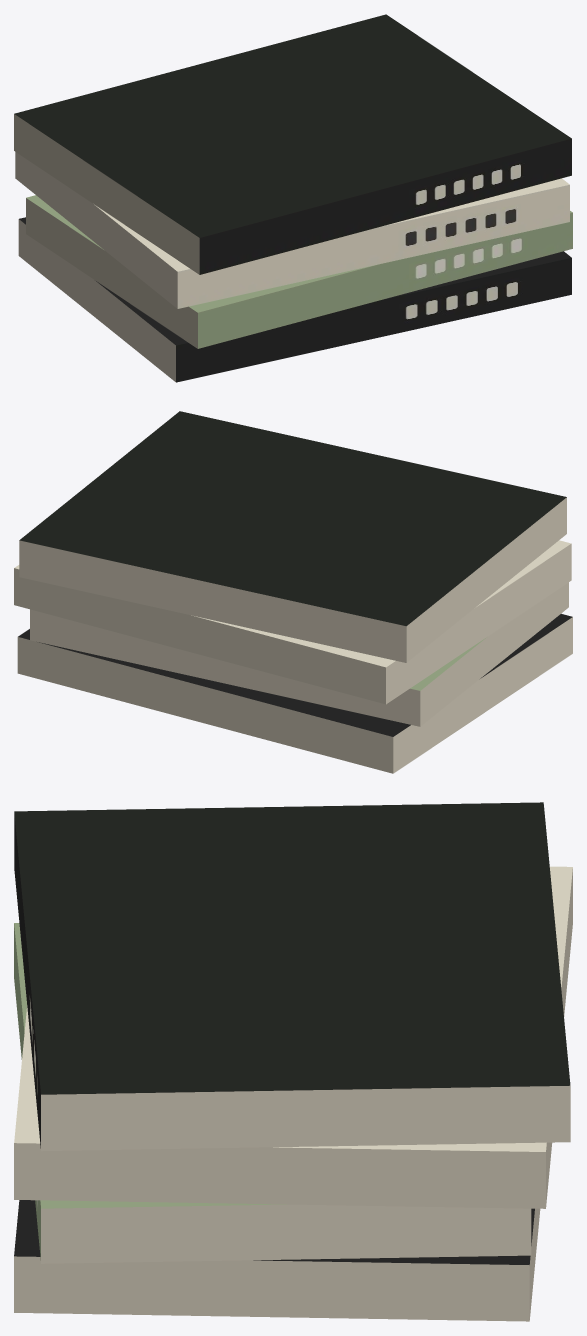
The model's file is obj-books-coffee-table-stack.glb.
The picture shows the model from 3 angles, top to bottom: view 1: azimuth 30°, elevation 25°; view 2: azimuth 150°, elevation 25°; view 3: azimuth 270°, elevation 25°; orthographic projection. The views are drawn at different scales.
Parts seen in each view (by area): view 1: obj-books-coffee-table-stack; view 2: obj-books-coffee-table-stack; view 3: obj-books-coffee-table-stack.
Boxes of the visible parts, x1,y1,x2,y2 form: obj-books-coffee-table-stack: (14,14,572,382); obj-books-coffee-table-stack: (14,411,572,773); obj-books-coffee-table-stack: (14,802,572,1321).
Bounding box in the file's own units: 0.3265 × 0.1154 × 0.2602.
Materials: 1 (1 with a texture image).
